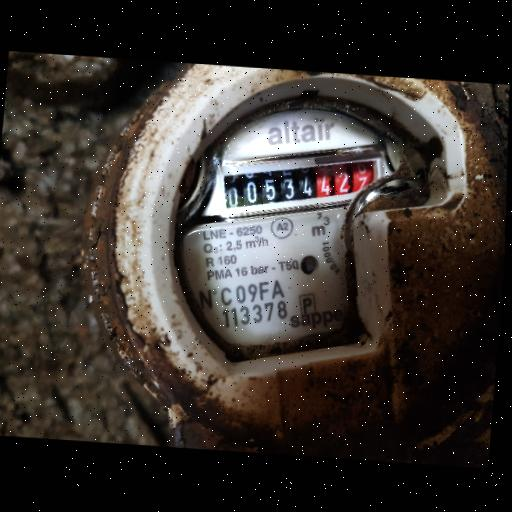0: (236, 171, 266, 207), (221, 173, 247, 210)
2: (327, 160, 358, 197)
3: (275, 166, 303, 203)
4: (309, 163, 337, 200), (292, 165, 319, 202)
5: (257, 168, 285, 206)
6: (348, 159, 377, 193)
border_water_meter_number: (214, 142, 389, 226)
